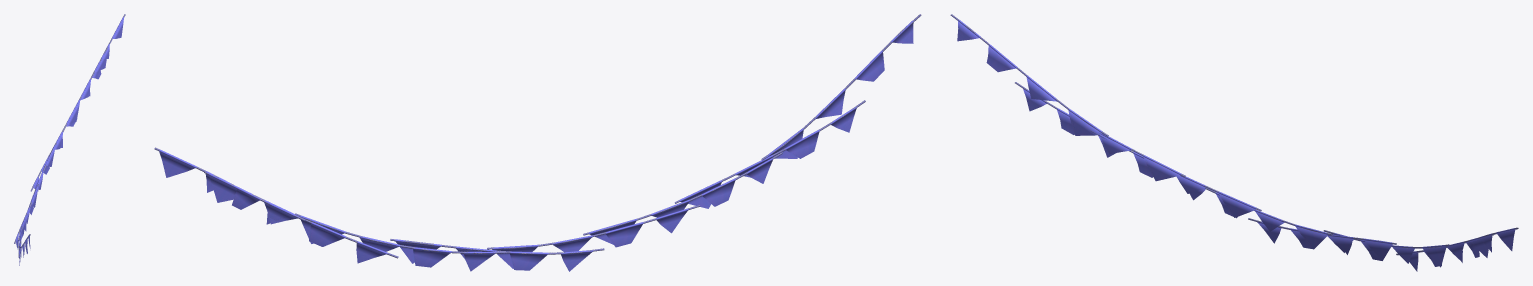
Rendered from SM_rope_flags_01_Splines_4.fbx.
3 views of the same model, side by side, from view 1: azimuth 30°, elevation 25°; view 2: azimuth 150°, elevation 25°; view 3: azimuth 270°, elevation 25° (orthographic). The views are drawn at different scales.
Parts seen in each view (by area): view 1: SM_rope_flags_01_Splines_4_LOD0; view 2: SM_rope_flags_01_Splines_4_LOD0; view 3: SM_rope_flags_01_Splines_4_LOD0.
Part boxes in pixels (x1,y1,x2,y2): SM_rope_flags_01_Splines_4_LOD0: [14, 14, 125, 265]; SM_rope_flags_01_Splines_4_LOD0: [154, 14, 921, 271]; SM_rope_flags_01_Splines_4_LOD0: [950, 14, 1518, 271].
Size of the model in its own units: 1023 by 1224 by 365.
